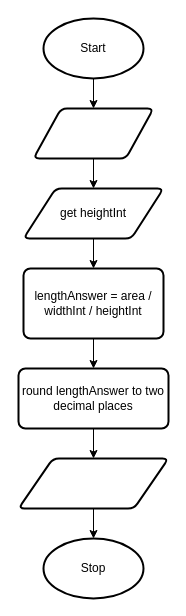
Some shapes in this 186 by 616 pixel diagram are drawn without their labels. Each missing label, with the box of its shape:
get widthInt: (32, 107, 154, 159)
return lengthAnswer: (17, 457, 169, 509)
